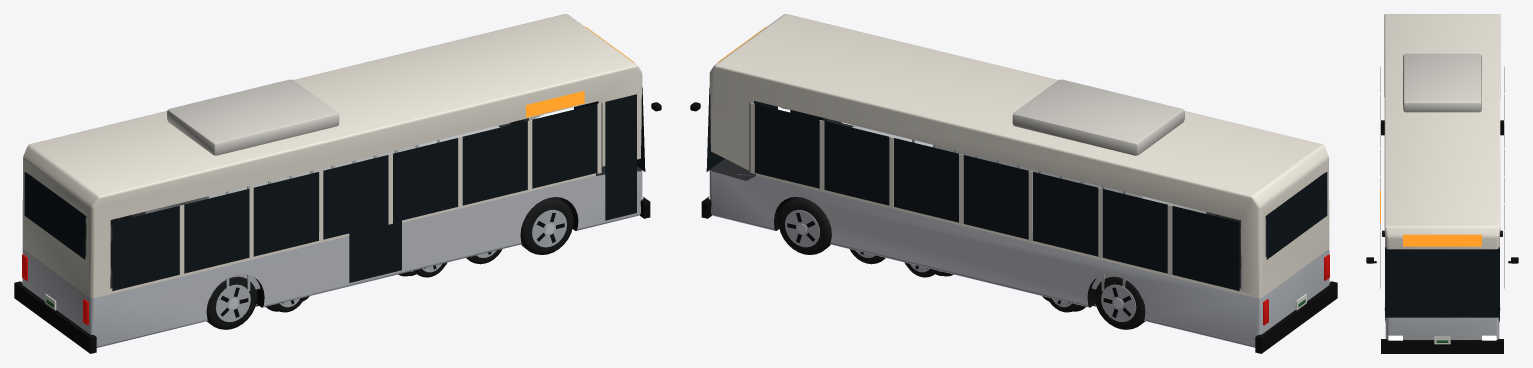
The model's file is vehicles.glb.
The picture shows the model from 3 angles, left to right: view 1: azimuth 30°, elevation 25°; view 2: azimuth 150°, elevation 25°; view 3: azimuth 270°, elevation 25°; orthographic projection. The views are drawn at different scales.
Parts seen in each view (by area): view 1: bus_body, wheel_FR.006, wheel_RR.006, truck_body; view 2: bus_body, wheel_FL.006, wheel_RL.006, truck_body; view 3: bus_body.
Part boxes in pixels (box(x1,y1,x2,y2)): bus_body: box(14, 14, 661, 353); wheel_FR.006: box(520, 197, 573, 254); wheel_RR.006: box(206, 276, 257, 329); truck_body: box(145, 125, 499, 298); bus_body: box(690, 14, 1337, 353); wheel_FL.006: box(778, 197, 831, 254); wheel_RL.006: box(1094, 276, 1145, 329); truck_body: box(852, 125, 1206, 298); bus_body: box(1366, 14, 1518, 353).
Bounding box in the file's own units: 10.71 × 3.32 × 3.09.
